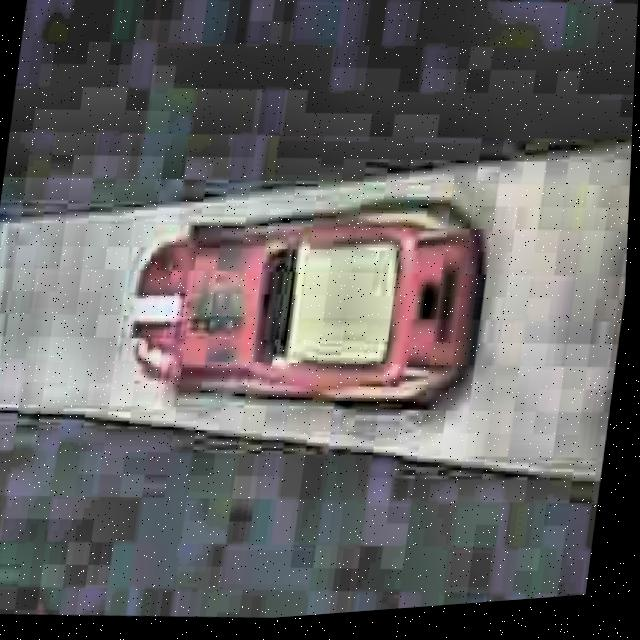car: (109, 167, 501, 440)
